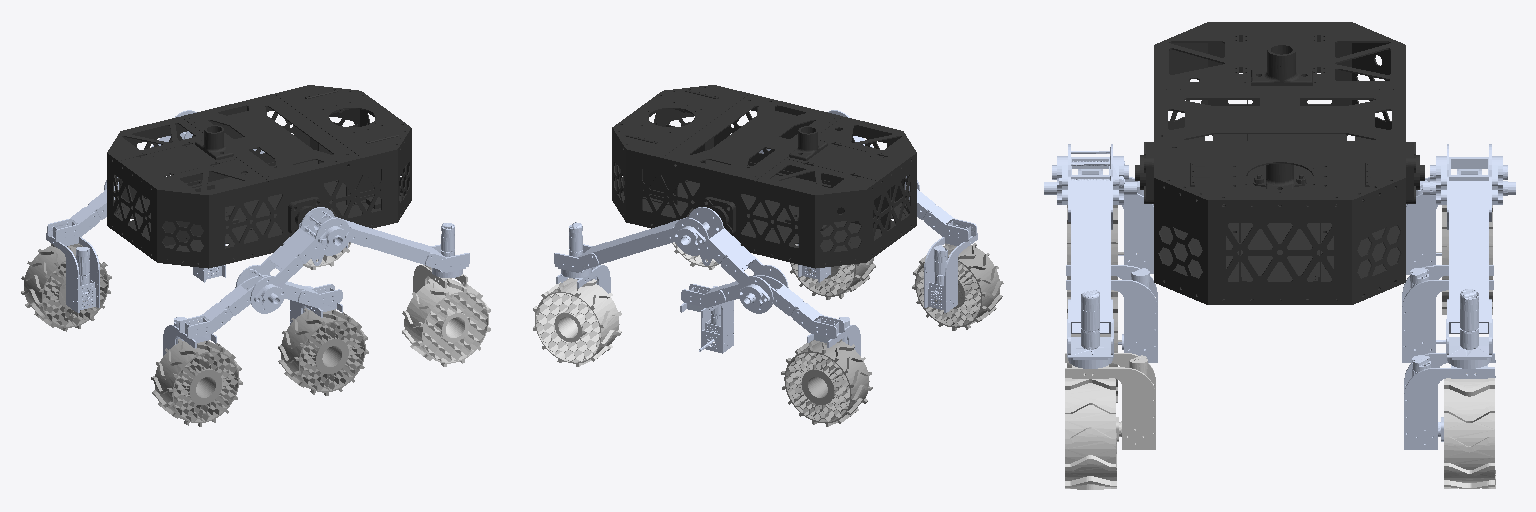
robot.urdf — drive_description:
<?xml version="1.0" encoding="utf-8"?>
<!-- Converted from the SolidWorks URDF export of "26 MasterCad Suspension-Chassis Test".
     Link frames sit on the real pivots (measured from the meshes); x forward, z up.
     Joint limits on rockers, bogies and steering are placeholders - set them to the real hardware stops. -->
<robot name="drive_description">

  <link name="base_footprint"/>
  <joint name="base_footprint_joint" type="fixed">
    <origin xyz="0 0 0.473659" rpy="0 0 0"/>
    <parent link="base_footprint"/>
    <child link="base_link"/>
  </joint>

  <link name="base_link">
    <inertial>
      <origin xyz="0.000174426 -1.18111e-05 -0.011053" rpy="0 0 0"/>
      <mass value="159.329"/>
      <inertia ixx="3.00843" ixy="2.86539e-05" ixz="2.80283e-05" iyy="7.65005" iyz="-1.10135e-05" izz="10.074"/>
    </inertial>
    <visual>
      <origin xyz="-0.000347363 -0.275706 -1.13285e-05" rpy="3.14159 0 -3.14159"/>
      <geometry><mesh filename="package://drive_description/meshes/base_link.STL"/></geometry>
      <material name="base_link_color"><color rgba="0.2667 0.2667 0.2667 1"/></material>
    </visual>
    <collision>
      <origin xyz="-0.000347363 -0.275706 -1.13285e-05" rpy="3.14159 0 -3.14159"/>
      <geometry><mesh filename="package://drive_description/meshes/base_link.STL"/></geometry>
    </collision>
  </link>

  <link name="right_rocker">
    <inertial>
      <origin xyz="0.0564073 -0.0729809 -0.0518177" rpy="0 0 0"/>
      <mass value="3.02483"/>
      <inertia ixx="0.00365289" ixy="-2.52535e-08" ixz="0.00205485" iyy="0.00957997" iyz="3.86952e-09" izz="0.00796096"/>
    </inertial>
    <visual>
      <origin xyz="-0.000300163 -0.1478 1.42078e-06" rpy="0.594116 2.79495e-07 -1.57079"/>
      <geometry><mesh filename="package://drive_description/meshes/right_rocker.STL"/></geometry>
      <material name="right_rocker_color"><color rgba="0.8667 0.9098 1 1"/></material>
    </visual>
    <collision>
      <origin xyz="-0.000300163 -0.1478 1.42078e-06" rpy="0.594116 2.79495e-07 -1.57079"/>
      <geometry><mesh filename="package://drive_description/meshes/right_rocker.STL"/></geometry>
    </collision>
  </link>
  <joint name="right_rocker_joint" type="revolute">
    <origin xyz="0 -0.2857 0" rpy="0 0 0"/>
    <parent link="base_link"/>
    <child link="right_rocker"/>
    <axis xyz="0 1 0"/>
    <limit lower="-0.6" upper="0.6" effort="30" velocity="6"/>
    <!-- rocker-bogie differential: right rocker turns opposite to the left -->
    <mimic joint="left_rocker_joint" multiplier="-1" offset="0"/>
  </joint>

  <link name="left_rocker">
    <inertial>
      <origin xyz="-0.00355518 0.0734513 -0.0734869" rpy="0 0 0"/>
      <mass value="3.70672"/>
      <inertia ixx="0.00370142" ixy="5.17432e-09" ixz="0.00205091" iyy="0.0101925" iyz="1.10887e-08" izz="0.00811517"/>
    </inertial>
    <visual>
      <origin xyz="-0.000300135 0 4.37551e-06" rpy="1.5708 0.0271556 -3.14159"/>
      <geometry><mesh filename="package://drive_description/meshes/left_rocker.STL"/></geometry>
      <material name="left_rocker_color"><color rgba="0.8667 0.9098 1 1"/></material>
    </visual>
    <collision>
      <origin xyz="-0.000300135 0 4.37551e-06" rpy="1.5708 0.0271556 -3.14159"/>
      <geometry><mesh filename="package://drive_description/meshes/left_rocker.STL"/></geometry>
    </collision>
  </link>
  <joint name="left_rocker_joint" type="revolute">
    <origin xyz="0 0.2857 0" rpy="0 0 0"/>
    <parent link="base_link"/>
    <child link="left_rocker"/>
    <axis xyz="0 1 0"/>
    <limit lower="-0.6" upper="0.6" effort="30" velocity="6"/>
  </joint>

  <link name="right_bogie">
    <inertial>
      <origin xyz="0.000276478 0.0388831 -0.0974406" rpy="0 0 0"/>
      <mass value="1.86795"/>
      <inertia ixx="0.00348763" ixy="3.2527e-07" ixz="-1.82915e-07" iyy="0.0038929" iyz="0.000698837" izz="0.00311641"/>
    </inertial>
    <visual>
      <origin xyz="0.190955 -0.0839 0.144274" rpy="-3.14159 1.32053e-08 1.01889e-05"/>
      <geometry><mesh filename="package://drive_description/meshes/right_bogie.STL"/></geometry>
      <material name="right_bogie_color"><color rgba="0.8667 0.9098 1 1"/></material>
    </visual>
    <collision>
      <origin xyz="0.190955 -0.0839 0.144274" rpy="-3.14159 1.32053e-08 1.01889e-05"/>
      <geometry><mesh filename="package://drive_description/meshes/right_bogie.STL"/></geometry>
    </collision>
  </link>
  <joint name="right_bogie_joint" type="revolute">
    <origin xyz="-0.203177 -0.0739 -0.126962" rpy="0 0 0"/>
    <parent link="right_rocker"/>
    <child link="right_bogie"/>
    <axis xyz="0 1 0"/>
    <limit lower="-0.6" upper="0.6" effort="30" velocity="6"/>
  </joint>

  <link name="left_bogie">
    <inertial>
      <origin xyz="-0.000111659 -0.0387045 -0.0966811" rpy="0 0 0"/>
      <mass value="1.85703"/>
      <inertia ixx="0.00348619" ixy="3.26835e-07" ixz="1.7749e-07" iyy="0.00389019" iyz="-0.000698839" izz="0.00311498"/>
    </inertial>
    <visual>
      <origin xyz="1.52345 -2.0367 -0.489168" rpy="-3.14158 0 -3.14159"/>
      <geometry><mesh filename="package://drive_description/meshes/left_bogie.STL"/></geometry>
      <material name="left_bogie_color"><color rgba="0.8667 0.9098 1 1"/></material>
    </visual>
    <collision>
      <origin xyz="1.52345 -2.0367 -0.489168" rpy="-3.14158 0 -3.14159"/>
      <geometry><mesh filename="package://drive_description/meshes/left_bogie.STL"/></geometry>
    </collision>
  </link>
  <joint name="left_bogie_joint" type="revolute">
    <origin xyz="-0.203015 0.0739 -0.127025" rpy="0 0 0"/>
    <parent link="left_rocker"/>
    <child link="left_bogie"/>
    <axis xyz="0 1 0"/>
    <limit lower="-0.6" upper="0.6" effort="30" velocity="6"/>
  </joint>

  <link name="right_steering">
    <inertial>
      <origin xyz="-0.0015822 0.0764677 -0.0818667" rpy="0 0 0"/>
      <mass value="0.46292"/>
      <inertia ixx="0.00142257" ixy="6.03174e-06" ixz="-1.49093e-05" iyy="0.000953512" iyz="0.000349945" izz="0.000539945"/>
    </inertial>
    <visual>
      <origin xyz="0.891122 -1.26169 -0.701383" rpy="1.57219 0.0167964 -2.5994e-05"/>
      <geometry><mesh filename="package://drive_description/meshes/right_steering.STL"/></geometry>
      <material name="right_steering_color"><color rgba="0.8941 0.8941 0.8941 1"/></material>
    </visual>
    <collision>
      <origin xyz="0.891122 -1.26169 -0.701383" rpy="1.57219 0.0167964 -2.5994e-05"/>
      <geometry><mesh filename="package://drive_description/meshes/right_steering.STL"/></geometry>
    </collision>
  </link>
  <joint name="right_steering_joint" type="revolute">
    <origin xyz="0.383904 -0.0739 -0.214861" rpy="0 0 0"/>
    <parent link="right_rocker"/>
    <child link="right_steering"/>
    <axis xyz="0.0380451 0 0.999276"/>
    <limit lower="-0.8" upper="0.8" effort="30" velocity="6"/>
  </joint>

  <link name="left_steering">
    <inertial>
      <origin xyz="-0.00101454 -0.0759133 -0.0790553" rpy="0 0 0"/>
      <mass value="0.440451"/>
      <inertia ixx="0.00141086" ixy="-5.61893e-06" ixz="-1.46973e-05" iyy="0.000935196" iyz="-0.00034854" izz="0.000516868"/>
    </inertial>
    <visual>
      <origin xyz="-0.375601 -0.148522 0.21432" rpy="1.5873 -0.00199635 1.5707"/>
      <geometry><mesh filename="package://drive_description/meshes/left_steering.STL"/></geometry>
      <material name="left_steering_color"><color rgba="0.8667 0.9098 1 1"/></material>
    </visual>
    <collision>
      <origin xyz="-0.375601 -0.148522 0.21432" rpy="1.5873 -0.00199635 1.5707"/>
      <geometry><mesh filename="package://drive_description/meshes/left_steering.STL"/></geometry>
    </collision>
  </link>
  <joint name="left_steering_joint" type="revolute">
    <origin xyz="0.383959 0.0737 -0.21473" rpy="0 0 0"/>
    <parent link="left_rocker"/>
    <child link="left_steering"/>
    <axis xyz="0.0478801 0 0.998853"/>
    <limit lower="-0.8" upper="0.8" effort="30" velocity="6"/>
  </joint>

  <link name="right_front_wheel">
    <inertial>
      <origin xyz="-1.64822e-06 -0.0306879 -4.27974e-05" rpy="0 0 0"/>
      <mass value="1.07156"/>
      <inertia ixx="0.0040845" ixy="1.28015e-07" ixz="1.58478e-10" iyy="0.00649745" iyz="3.36274e-06" izz="0.0040845"/>
    </inertial>
    <visual>
      <origin xyz="-0.377739 -0.110165 0.359138" rpy="-3.12524 1.48549 0.0162435"/>
      <geometry><mesh filename="package://drive_description/meshes/right_front_wheel.STL"/></geometry>
      <material name="right_front_wheel_color"><color rgba="0.8941 0.8941 0.8941 1"/></material>
    </visual>
    <collision>
      <origin xyz="-0.377739 -0.110165 0.359138" rpy="-3.12524 1.48549 0.0162435"/>
      <geometry><mesh filename="package://drive_description/meshes/right_front_wheel.STL"/></geometry>
    </collision>
  </link>
  <joint name="right_front_wheel_joint" type="continuous">
    <origin xyz="-0.0024001 0.0336592 -0.144347" rpy="0 0 0"/>
    <parent link="right_steering"/>
    <child link="right_front_wheel"/>
    <axis xyz="0 1 0"/>
    <limit effort="30" velocity="20"/>
  </joint>

  <link name="left_front_wheel">
    <inertial>
      <origin xyz="2.91595e-06 0.0306878 6.11665e-05" rpy="0 0 0"/>
      <mass value="1.07156"/>
      <inertia ixx="0.0040845" ixy="2.3047e-07" ixz="4.82226e-10" iyy="0.00649745" iyz="4.80818e-06" izz="0.0040845"/>
    </inertial>
    <visual>
      <origin xyz="0.930025 -1.94641 -0.57163" rpy="3.12475 1.45217 3.12478"/>
      <geometry><mesh filename="package://drive_description/meshes/left_front_wheel.STL"/></geometry>
      <material name="left_front_wheel_color"><color rgba="0.8941 0.8941 0.8941 1"/></material>
    </visual>
    <collision>
      <origin xyz="0.930025 -1.94641 -0.57163" rpy="3.12475 1.45217 3.12478"/>
      <geometry><mesh filename="package://drive_description/meshes/left_front_wheel.STL"/></geometry>
    </collision>
  </link>
  <joint name="left_front_wheel_joint" type="continuous">
    <origin xyz="-0.0023236 -0.0329836 -0.14456" rpy="0 0 0"/>
    <parent link="left_steering"/>
    <child link="left_front_wheel"/>
    <axis xyz="0 1 0"/>
    <limit effort="30" velocity="20"/>
  </joint>

  <link name="right_middle_wheel">
    <inertial>
      <origin xyz="4.00218e-07 -0.0313003 -1.68947e-07" rpy="0 0 0"/>
      <mass value="1.61096"/>
      <inertia ixx="0.0055952" ixy="-3.63221e-08" ixz="1.30537e-09" iyy="0.00866458" iyz="7.9339e-09" izz="0.0055952"/>
    </inertial>
    <visual>
      <origin xyz="9.38315e-07 -0.07845 -1.28849e-07" rpy="1.5708 0.4215 1.22808e-05"/>
      <geometry><mesh filename="package://drive_description/meshes/right_middle_wheel.STL"/></geometry>
      <material name="right_middle_wheel_color"><color rgba="0.698 0.698 0.698 1"/></material>
    </visual>
    <collision>
      <origin xyz="9.38315e-07 -0.07845 -1.28849e-07" rpy="1.5708 0.4215 1.22808e-05"/>
      <geometry><mesh filename="package://drive_description/meshes/right_middle_wheel.STL"/></geometry>
    </collision>
  </link>
  <joint name="right_middle_wheel_joint" type="continuous">
    <origin xyz="0.198697 0.0369838 -0.230215" rpy="0 0 0"/>
    <parent link="right_bogie"/>
    <child link="right_middle_wheel"/>
    <axis xyz="0 1 0"/>
    <limit effort="30" velocity="20"/>
  </joint>

  <link name="right_back_wheel">
    <inertial>
      <origin xyz="3.94675e-07 -0.0313003 -1.64584e-07" rpy="0 0 0"/>
      <mass value="1.61096"/>
      <inertia ixx="0.0055952" ixy="-3.63221e-08" ixz="1.30536e-09" iyy="0.00866458" iyz="7.93389e-09" izz="0.0055952"/>
    </inertial>
    <visual>
      <origin xyz="9.34916e-07 -0.07845 -1.27325e-07" rpy="1.5708 0.4215 1.22808e-05"/>
      <geometry><mesh filename="package://drive_description/meshes/right_back_wheel.STL"/></geometry>
      <material name="right_back_wheel_color"><color rgba="0.698 0.698 0.698 1"/></material>
    </visual>
    <collision>
      <origin xyz="9.34916e-07 -0.07845 -1.27325e-07" rpy="1.5708 0.4215 1.22808e-05"/>
      <geometry><mesh filename="package://drive_description/meshes/right_back_wheel.STL"/></geometry>
    </collision>
  </link>
  <joint name="right_back_wheel_joint" type="continuous">
    <origin xyz="-0.198826 0.0369798 -0.230215" rpy="0 0 0"/>
    <parent link="right_bogie"/>
    <child link="right_back_wheel"/>
    <axis xyz="0 1 0"/>
    <limit effort="30" velocity="20"/>
  </joint>

  <link name="left_middle_wheel">
    <inertial>
      <origin xyz="-1.4681e-07 0.0313003 -2.42923e-07" rpy="0 0 0"/>
      <mass value="1.61096"/>
      <inertia ixx="0.0055952" ixy="-1.35096e-08" ixz="-1.30539e-09" iyy="0.00866458" iyz="-1.7678e-08" izz="0.0055952"/>
    </inertial>
    <visual>
      <origin xyz="-3.34154e-07 0.07845 -3.52108e-07" rpy="1.5708 0.4215 -3.14159"/>
      <geometry><mesh filename="package://drive_description/meshes/left_middle_wheel.STL"/></geometry>
      <material name="left_middle_wheel_color"><color rgba="0.698 0.698 0.698 1"/></material>
    </visual>
    <collision>
      <origin xyz="-3.34154e-07 0.07845 -3.52108e-07" rpy="1.5708 0.4215 -3.14159"/>
      <geometry><mesh filename="package://drive_description/meshes/left_middle_wheel.STL"/></geometry>
    </collision>
  </link>
  <joint name="left_middle_wheel_joint" type="continuous">
    <origin xyz="0.198645 -0.0369506 -0.230234" rpy="0 0 0"/>
    <parent link="left_bogie"/>
    <child link="left_middle_wheel"/>
    <axis xyz="0 1 0"/>
    <limit effort="30" velocity="20"/>
  </joint>

  <link name="left_back_wheel">
    <inertial>
      <origin xyz="-1.46884e-07 0.0313003 -2.42847e-07" rpy="0 0 0"/>
      <mass value="1.61096"/>
      <inertia ixx="0.0055952" ixy="-1.35096e-08" ixz="-1.30542e-09" iyy="0.00866458" iyz="-1.7678e-08" izz="0.0055952"/>
    </inertial>
    <visual>
      <origin xyz="-3.34154e-07 0.07845 -3.52108e-07" rpy="1.5708 0.4215 -3.14159"/>
      <geometry><mesh filename="package://drive_description/meshes/left_back_wheel.STL"/></geometry>
      <material name="left_back_wheel_color"><color rgba="0.698 0.698 0.698 1"/></material>
    </visual>
    <collision>
      <origin xyz="-3.34154e-07 0.07845 -3.52108e-07" rpy="1.5708 0.4215 -3.14159"/>
      <geometry><mesh filename="package://drive_description/meshes/left_back_wheel.STL"/></geometry>
    </collision>
  </link>
  <joint name="left_back_wheel_joint" type="continuous">
    <origin xyz="-0.198955 -0.0369517 -0.230234" rpy="0 0 0"/>
    <parent link="left_bogie"/>
    <child link="left_back_wheel"/>
    <axis xyz="0 1 0"/>
    <limit effort="30" velocity="20"/>
  </joint>

</robot>

--- Render facts (derived) ---
3 views of the same robot in one strip: view 1: azimuth 30°, elevation 25°; view 2: azimuth 150°, elevation 25°; view 3: azimuth 270°, elevation 25° (orthographic).
Robot: drive_description — 14 links, 13 joints (6 revolute, 6 continuous, 1 fixed); root link base_footprint; default pose: every joint at zero.
Visible links, largest first — view 1: base_link, right_rocker, right_back_wheel, right_middle_wheel, right_front_wheel, left_bogie, right_bogie, left_back_wheel, right_steering; view 2: base_link, left_rocker, left_back_wheel, left_front_wheel, left_bogie, right_bogie, right_back_wheel, right_middle_wheel, left_steering; view 3: base_link, left_rocker, right_rocker, right_bogie, left_bogie, right_front_wheel, left_front_wheel, left_steering, right_steering, left_back_wheel, right_back_wheel.
Link boxes in pixels (x1=…): base_link: x1=107, y1=85, x2=411, y2=268; right_rocker: x1=235, y1=207, x2=469, y2=313; right_back_wheel: x1=151, y1=339, x2=242, y2=426; right_middle_wheel: x1=278, y1=308, x2=368, y2=395; right_front_wheel: x1=402, y1=279, x2=490, y2=366; left_bogie: x1=46, y1=182, x2=225, y2=312; right_bogie: x1=163, y1=275, x2=342, y2=355; left_back_wheel: x1=21, y1=243, x2=111, y2=331; right_steering: x1=413, y1=265, x2=467, y2=292; base_link: x1=612, y1=85, x2=916, y2=268; left_rocker: x1=554, y1=207, x2=788, y2=313; left_back_wheel: x1=781, y1=339, x2=872, y2=426; left_front_wheel: x1=533, y1=278, x2=621, y2=366; left_bogie: x1=680, y1=275, x2=860, y2=355; right_bogie: x1=798, y1=182, x2=977, y2=312; right_back_wheel: x1=912, y1=243, x2=1003, y2=330; right_middle_wheel: x1=790, y1=244, x2=875, y2=299; left_steering: x1=556, y1=265, x2=610, y2=293; base_link: x1=1135, y1=22, x2=1424, y2=304; left_rocker: x1=1430, y1=144, x2=1507, y2=368; right_rocker: x1=1052, y1=144, x2=1128, y2=368; right_bogie: x1=1044, y1=169, x2=1157, y2=362; left_bogie: x1=1402, y1=169, x2=1515, y2=362; right_front_wheel: x1=1065, y1=373, x2=1116, y2=489; left_front_wheel: x1=1444, y1=373, x2=1495, y2=488; left_steering: x1=1404, y1=353, x2=1495, y2=449; right_steering: x1=1065, y1=353, x2=1155, y2=449; left_back_wheel: x1=1436, y1=205, x2=1492, y2=314; right_back_wheel: x1=1067, y1=205, x2=1137, y2=279.
Size in the robot's own frame: 1.01 by 0.8942 by 0.6665 metres.
12 mesh visuals loaded from 13 distinct referenced files (12 binary STL); not drawn: 1 (reference not matched to a file when rendering).
